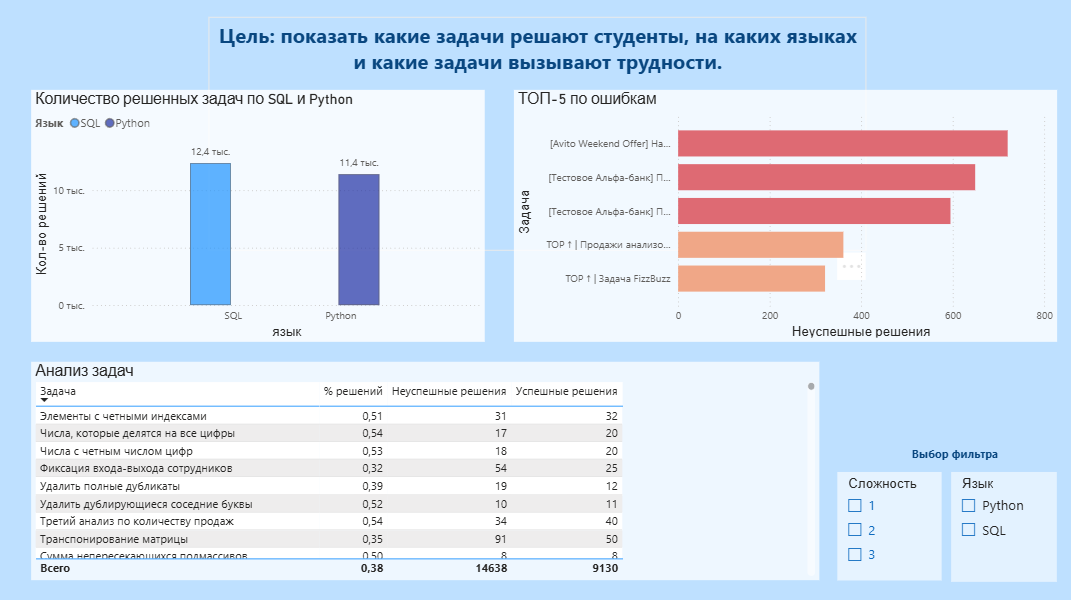

This screenshot's page, from the dashboard's own definition file:
{"tool":"powerbi","page":{"name":"Анализ задач","canvas":[1280,720],"ordinal":1},"visuals":[{"type":"textbox","box":[248.3,20.5,785.7,279],"z":0},{"type":"clusteredColumnChart","title":"Количество решенных задач по SQL и Python","fields":{"Category":["public language.name"],"Series":["public language.name"],"Y":["public codesubmit.Кол-во решений"]},"box":[37.1,107.5,541.3,300.7],"z":1000},{"type":"tableEx","title":"Анализ задач","fields":{"Values":["public problem.name","public codesubmit.% решений","public codesubmit.Неуспешные решения","public codesubmit.Успешные решения"]},"box":[36.5,431.6,939.9,260.5],"z":2000},{"type":"clusteredBarChart","title":"ТОП-5 по ошибкам","fields":{"Category":["public problem.name"],"Y":["public codesubmit.Неуспешные решения"]},"box":[612.9,107.5,647.5,300.7],"z":3000},{"type":"slicer","fields":{"Values":["public problem.complexity"]},"box":[999.1,562.4,124.6,129.6],"z":4000},{"type":"slicer","fields":{"Values":["public language.name"]},"box":[1134.9,562.4,125.8,130.9],"z":5000},{"type":"textbox","box":[999.1,527.2,280.6,149.7],"z":6000}]}

Visuals, with their boxes in screenshot pixels (x1, y1, x2, y2), scaled from the page's 1280x720 canvas onto the 1071x600 screenshot:
textbox: {"left": 208, "top": 17, "right": 865, "bottom": 250}
"Количество решенных задач по SQL и Python" clusteredColumnChart: {"left": 31, "top": 90, "right": 484, "bottom": 340}
"Анализ задач" tableEx: {"left": 31, "top": 360, "right": 817, "bottom": 577}
"ТОП-5 по ошибкам" clusteredBarChart: {"left": 513, "top": 90, "right": 1055, "bottom": 340}
slicer - public problem.complexity: {"left": 836, "top": 469, "right": 940, "bottom": 577}
slicer - public language.name: {"left": 950, "top": 469, "right": 1055, "bottom": 578}
textbox: {"left": 836, "top": 439, "right": 1070, "bottom": 564}
